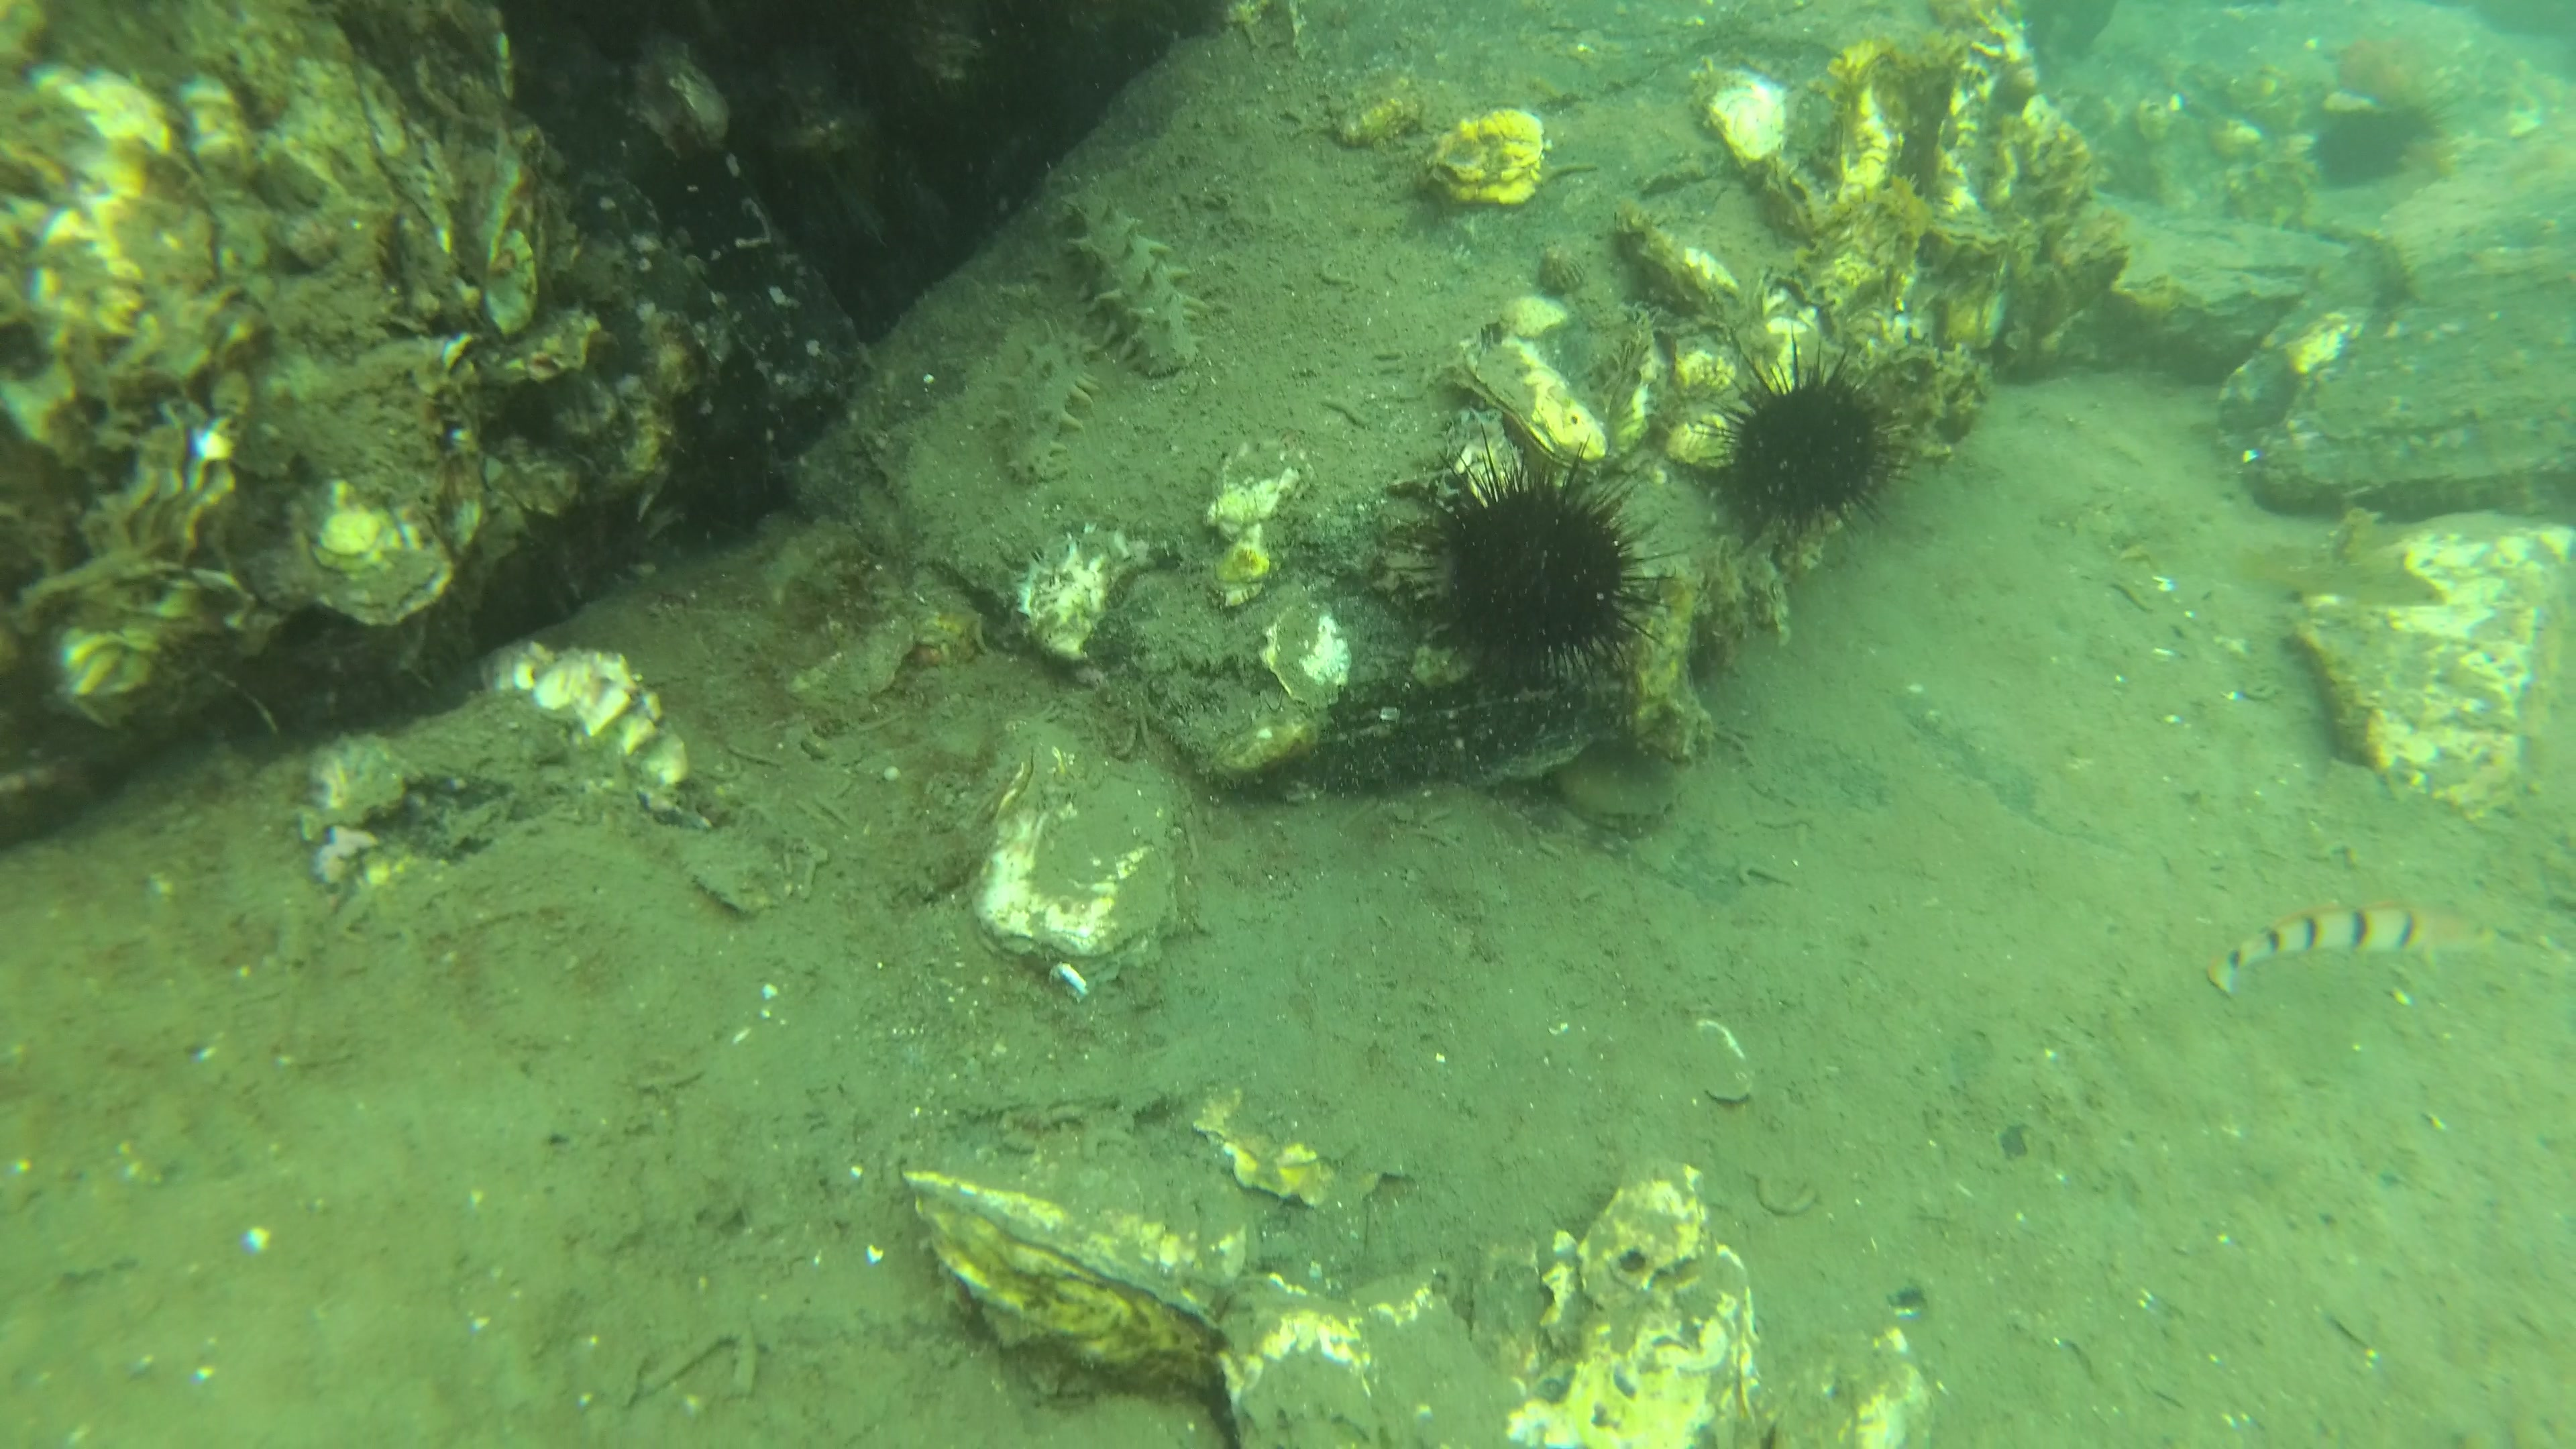echinus: (1414, 442, 1679, 694), (1721, 361, 1916, 556)
holothurian: (1054, 188, 1210, 387), (991, 318, 1106, 487)
